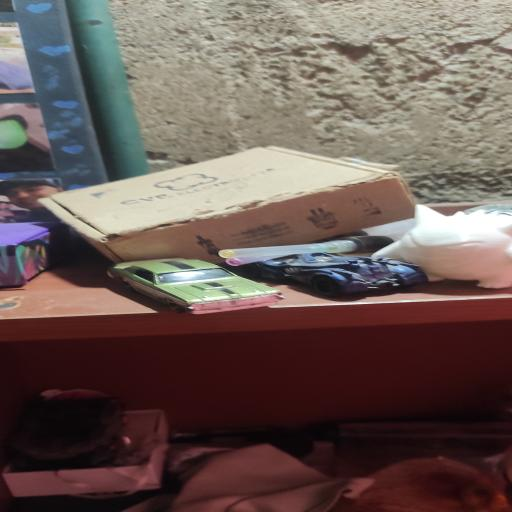Carrito: (107, 258, 284, 314)
